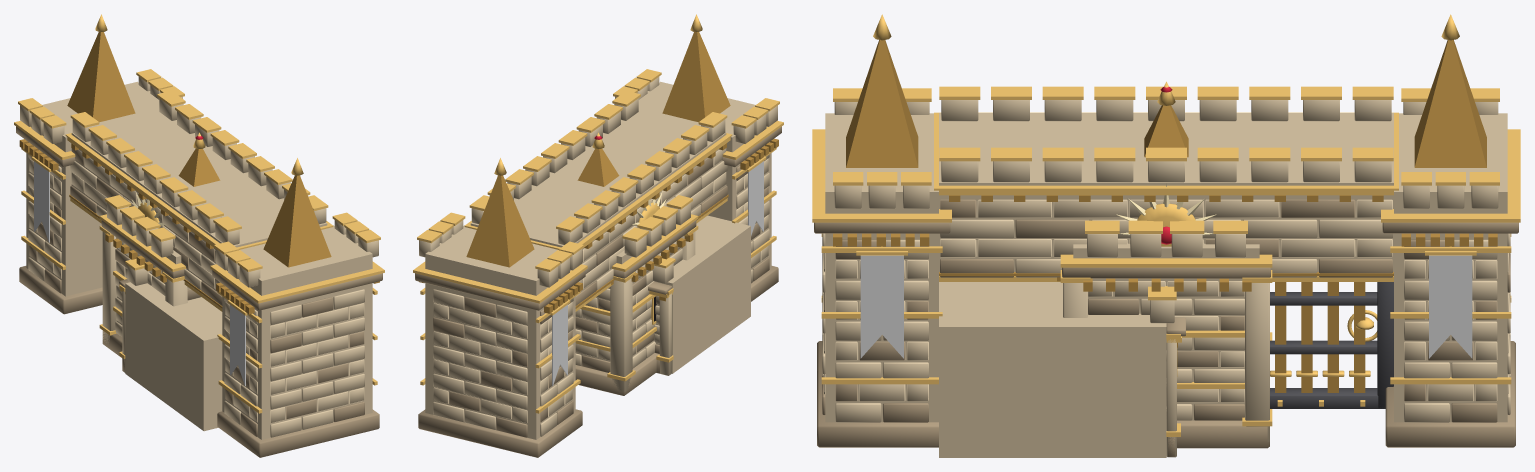
File: BossWall.glb
3 renders of one model, left to right at view 1: azimuth 30°, elevation 25°; view 2: azimuth 150°, elevation 25°; view 3: azimuth 270°, elevation 25°, orthographic. The views are drawn at different scales.
Parts seen in each view (by area): view 1: BossGateFrame__Sandstone_1, BossGateFrame__Gold_1, WallBayA__Sandstone_1, BossGateFrame__SandDark_1, BossGateFrame__GoldDeep_1, WallTower__Sandstone_1, WallTower__Gold_1, BossGateFrame__Banner_1, WallTower__GoldDeep_1, WallTower__SandDark_1; view 2: BossGateFrame__Sandstone_1, BossGateFrame__Gold_1, WallBayA__Sandstone_1, BossGateFrame__SandDark_1, BossGateFrame__GoldDeep_1, WallTower__Sandstone_1, WallTower__SandDark_1, WallTower__Gold_1, BossGateFrame__Banner_1, WallTower__GoldDeep_1; view 3: BossGateFrame__Sandstone_1, WallBayA__Sandstone_1, BossGateFrame__Gold_1, BossGateFrame__SandDark_1, BossGateFrame__GoldDeep_1, WallTower__Sandstone_1, BossGateFrame__Banner_1, WallTower__SandDark_1, BossGateLeaf__Iron_1, WallTower__Gold_1, BossGateLeaf__GoldDeep_1, WallTower__GoldDeep_1 (+1 smaller).
Part boxes in pixels (x1,y1,x2,y2): BossGateFrame__Sandstone_1: (20, 77, 378, 439); BossGateFrame__Gold_1: (14, 14, 384, 413); WallBayA__Sandstone_1: (122, 265, 222, 431); BossGateFrame__SandDark_1: (16, 126, 382, 457); BossGateFrame__GoldDeep_1: (19, 32, 379, 314); WallTower__Sandstone_1: (102, 202, 189, 344); WallTower__Gold_1: (99, 132, 205, 335); BossGateFrame__Banner_1: (34, 161, 245, 386); WallTower__GoldDeep_1: (105, 148, 220, 282); WallTower__SandDark_1: (101, 220, 200, 357); BossGateFrame__Sandstone_1: (419, 77, 777, 439); BossGateFrame__Gold_1: (413, 14, 783, 413); WallBayA__Sandstone_1: (651, 215, 750, 375); BossGateFrame__SandDark_1: (415, 126, 781, 457); BossGateFrame__GoldDeep_1: (419, 32, 778, 313); WallTower__Sandstone_1: (575, 202, 695, 391); WallTower__SandDark_1: (575, 220, 696, 395); WallTower__Gold_1: (575, 132, 698, 381); BossGateFrame__Banner_1: (552, 161, 763, 386); WallTower__GoldDeep_1: (577, 148, 693, 285); BossGateFrame__Sandstone_1: (822, 100, 1510, 422); WallBayA__Sandstone_1: (939, 282, 1176, 457); BossGateFrame__Gold_1: (812, 14, 1520, 384); BossGateFrame__SandDark_1: (814, 199, 1518, 447); BossGateFrame__GoldDeep_1: (833, 40, 1497, 276); WallTower__Sandstone_1: (1063, 234, 1269, 442); BossGateFrame__Banner_1: (860, 255, 1472, 358); WallTower__SandDark_1: (1062, 267, 1270, 448); BossGateLeaf__Iron_1: (1270, 282, 1393, 408); WallTower__Gold_1: (1060, 81, 1272, 426); BossGateLeaf__GoldDeep_1: (1275, 282, 1365, 392); WallTower__GoldDeep_1: (1057, 105, 1251, 291).
Size of the model in its own units: 24.4 by 41.9 by 68.5.
